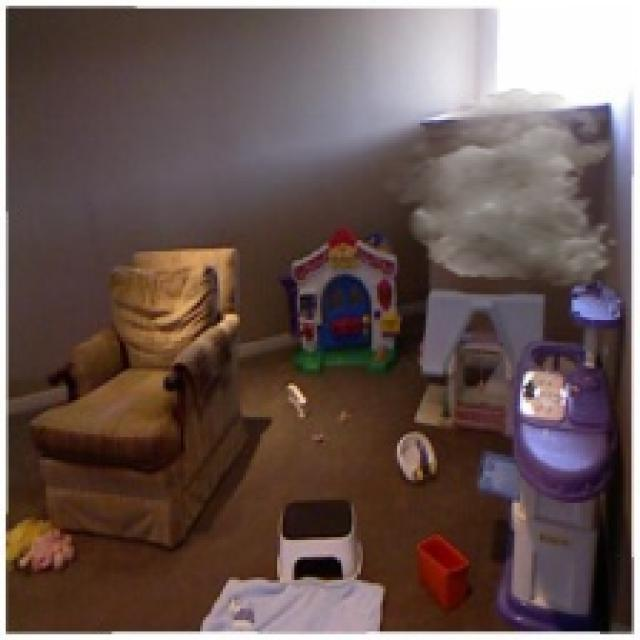Smoke: (380, 89, 620, 288)
